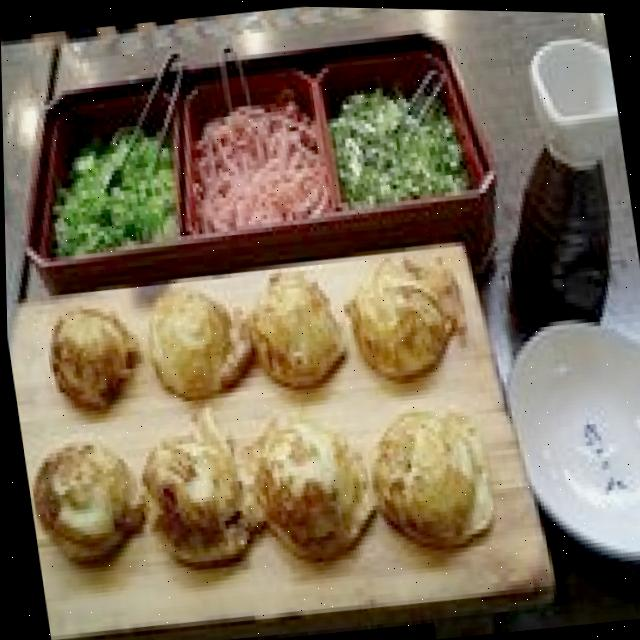炸货点心: (4, 216, 518, 610)
